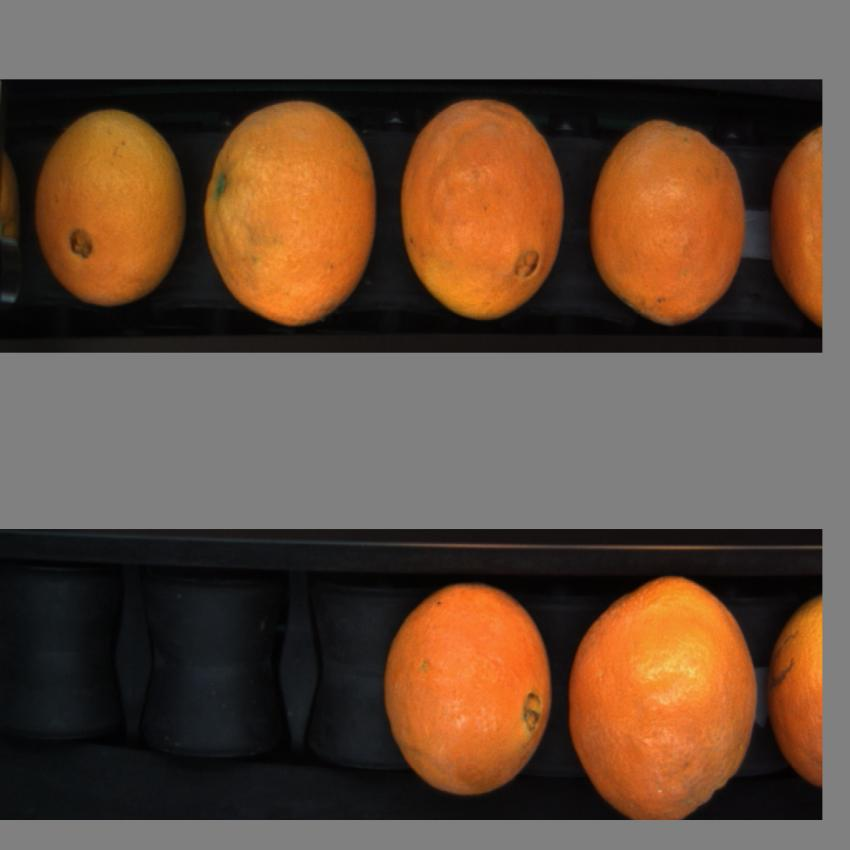Buen estado: (566, 570, 760, 818), (199, 100, 378, 326), (382, 577, 554, 805), (590, 103, 746, 330), (35, 104, 187, 312), (768, 109, 822, 322), (767, 584, 821, 792)
Mal estado: (400, 91, 568, 321)
